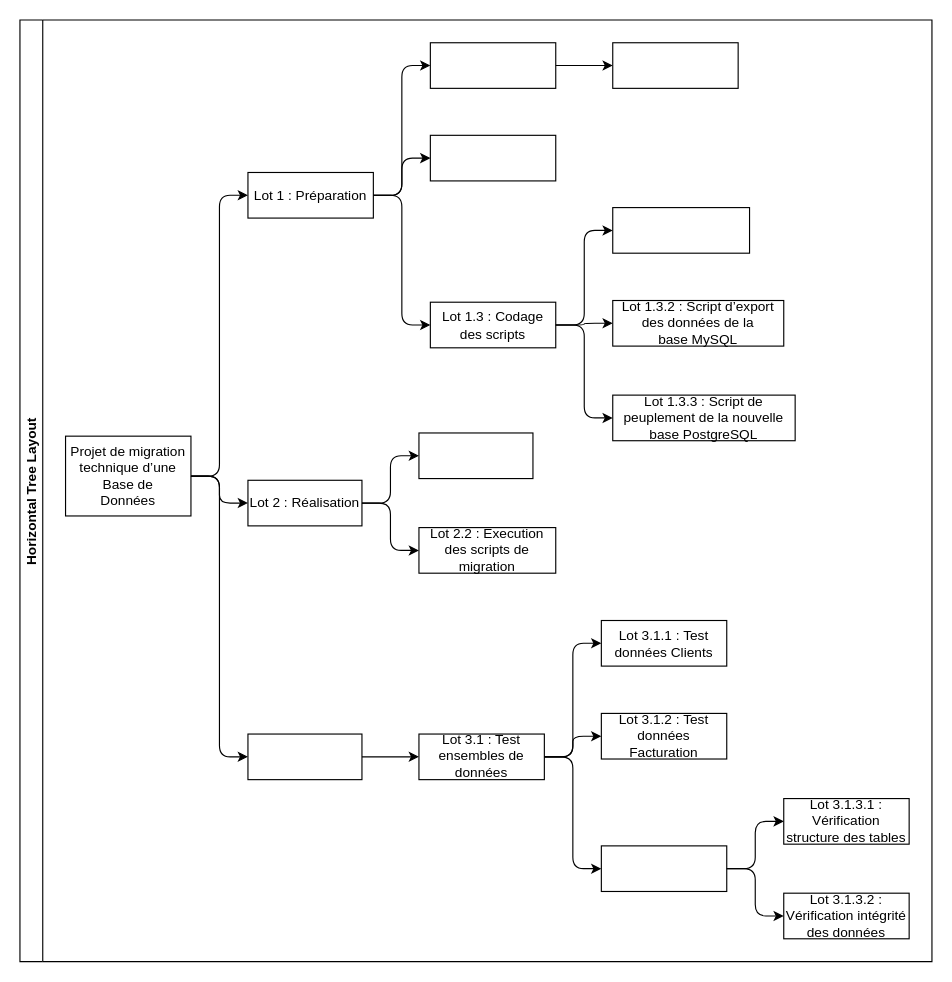
Image size: 952x982. Some labels were removed from this diagram. Here are the shapes that lost their labels. From the top down, the box of each, then its label:
(429, 42, 556, 88): Lot 1.1 : Schéma de la BdD
(612, 42, 738, 88): Lot 1.1.1 : Rétroconception de la BdD existante
(429, 134, 556, 181): Lot 1.2 : Stratégie de Test
(612, 206, 750, 253): Lot 1.3.1 : Scripts de création de schéma
(418, 432, 533, 479): Lot 2.1 : Installation du serveur
(247, 733, 362, 780): Lot 3 : Recette
(600, 845, 727, 891): Lot 3.1.3 : Vérification de chaque composant
